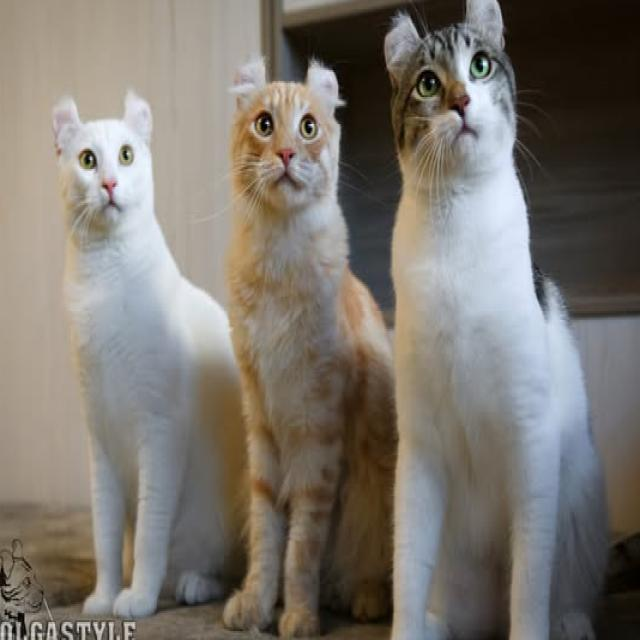American Curl: (372, 0, 614, 640), (46, 86, 248, 618), (223, 50, 397, 640)
